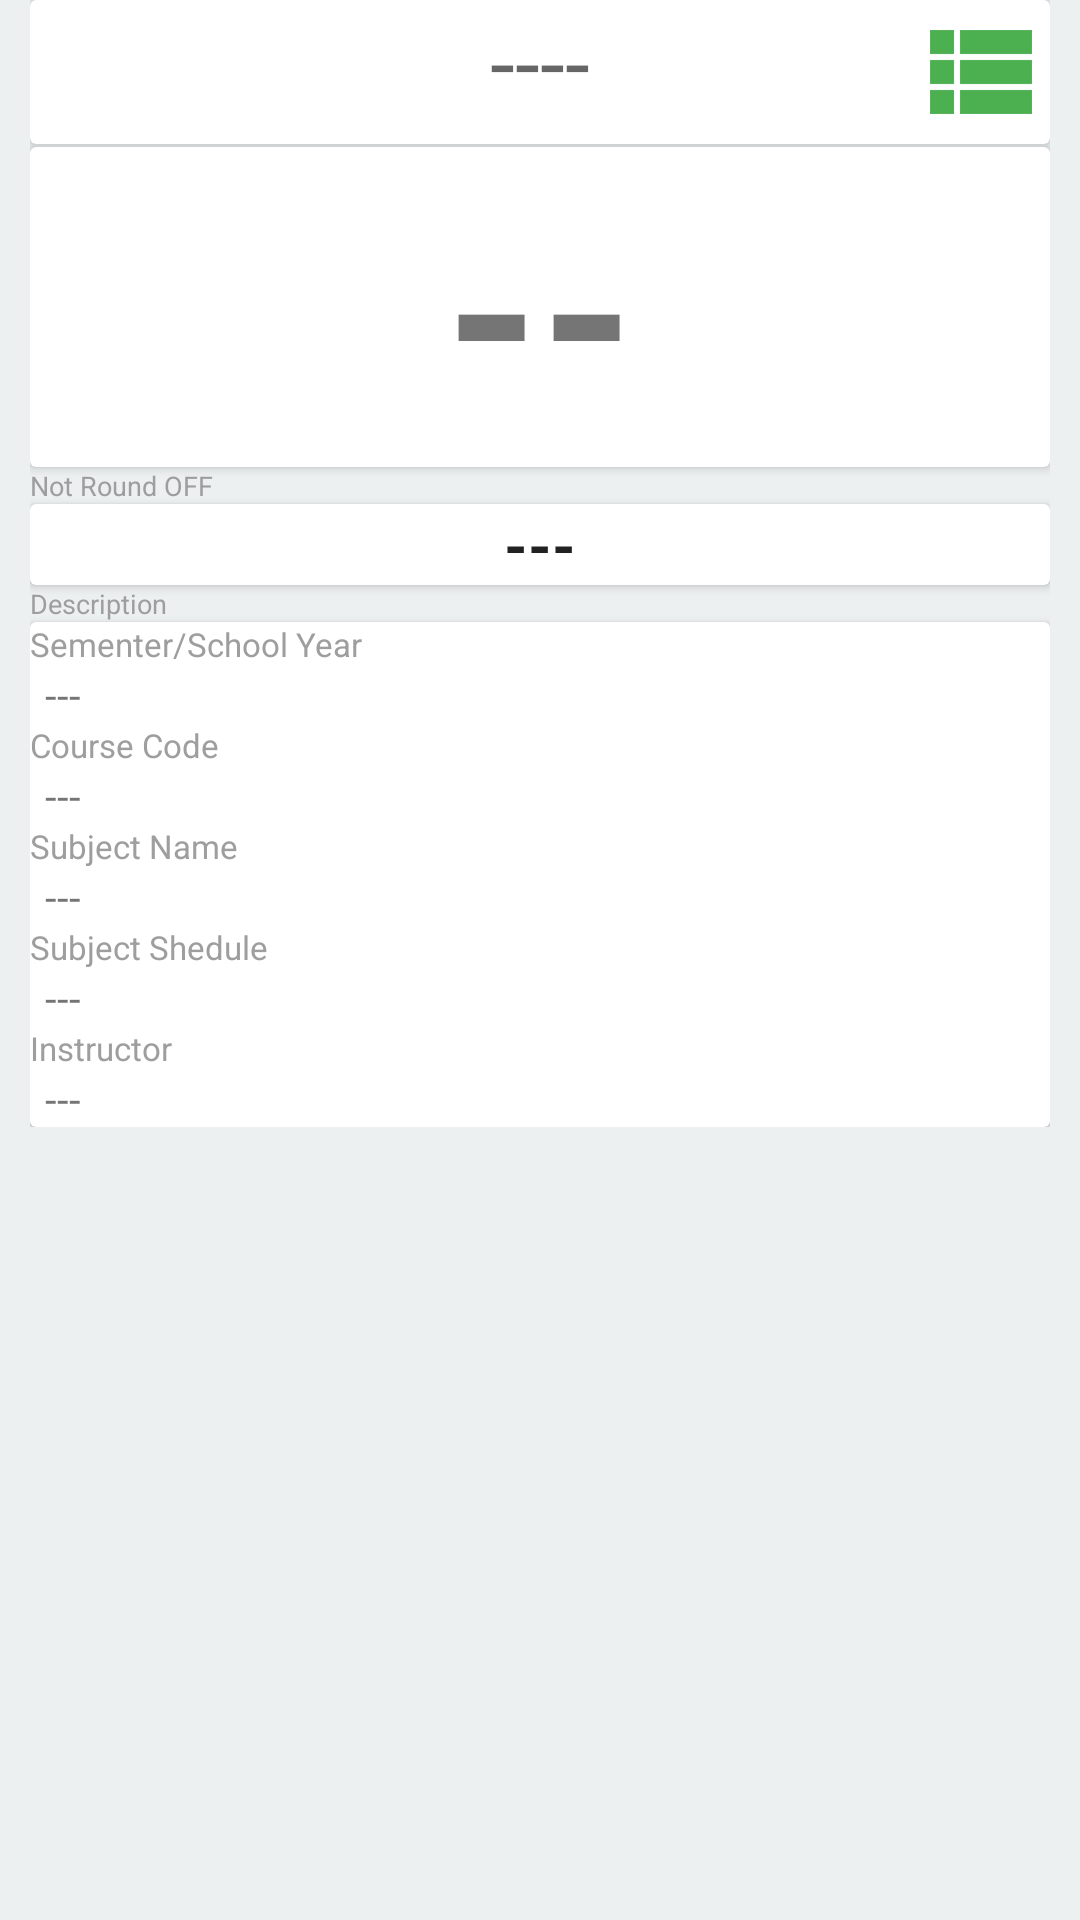

Where to tap for icons on this 1080 x 1920 app screen, as point (x, y):
viewlist: point (990, 57)
